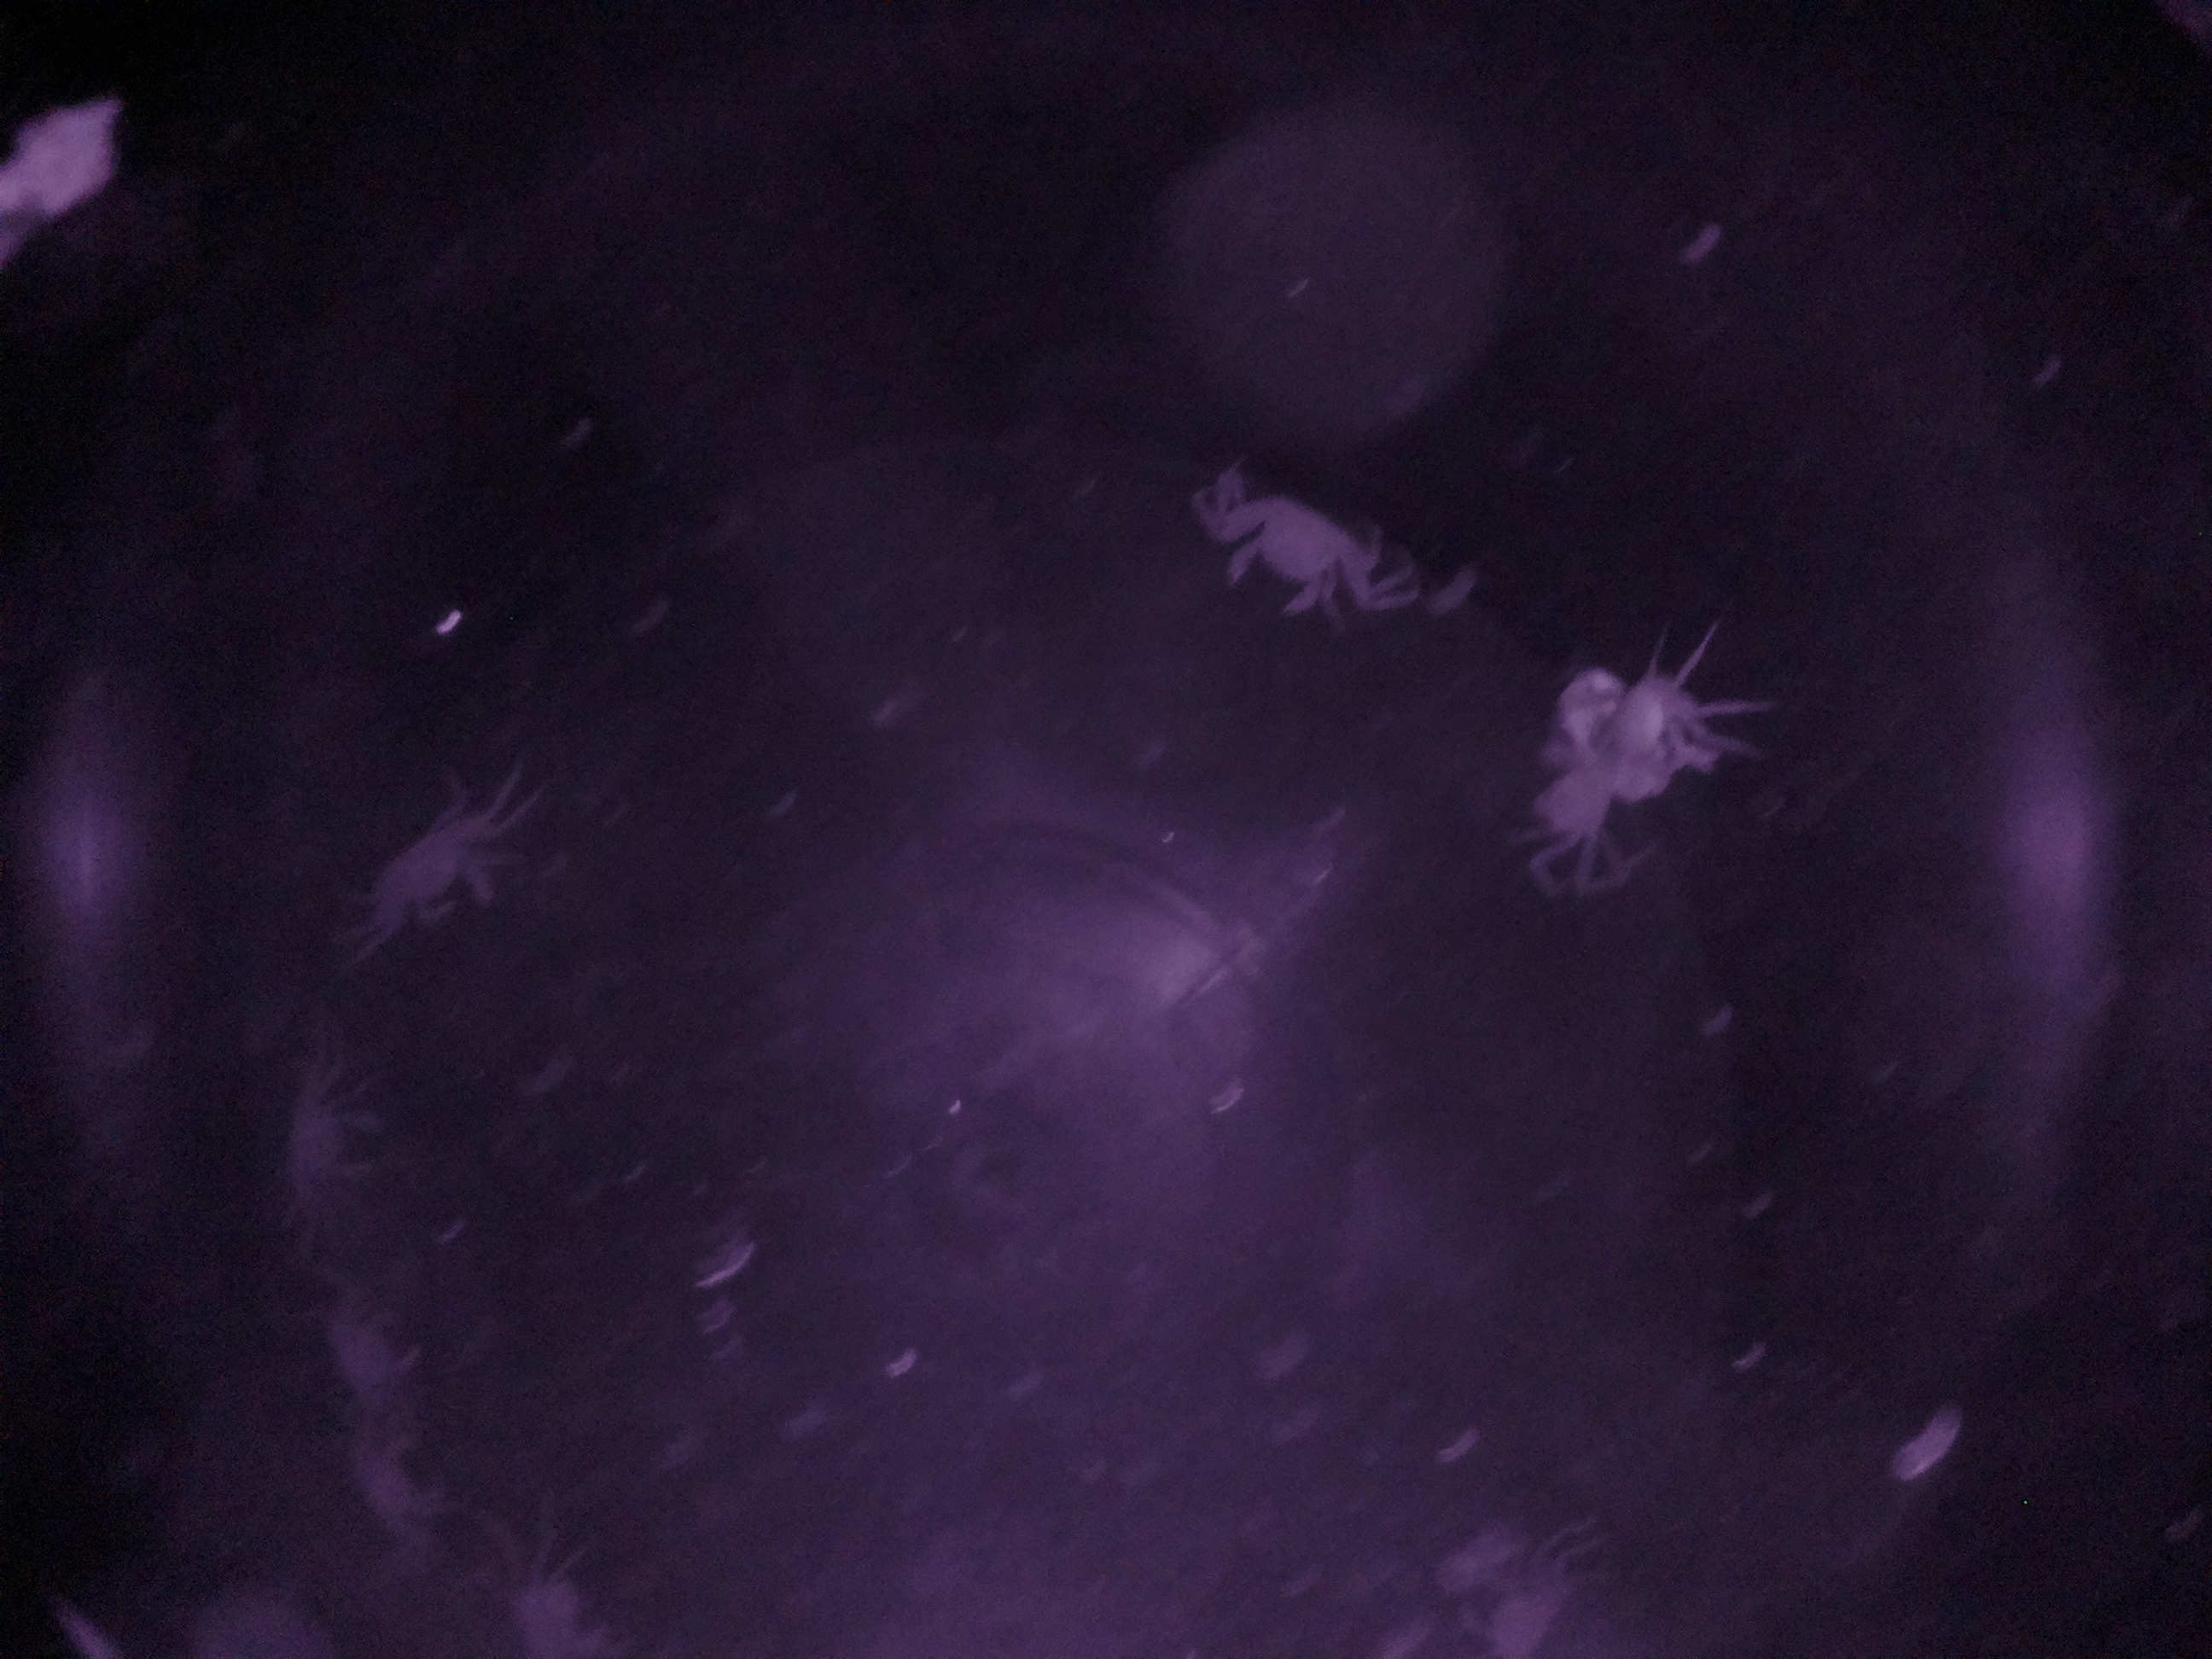Crab: (1193, 465, 1399, 643), (357, 782, 519, 974)
